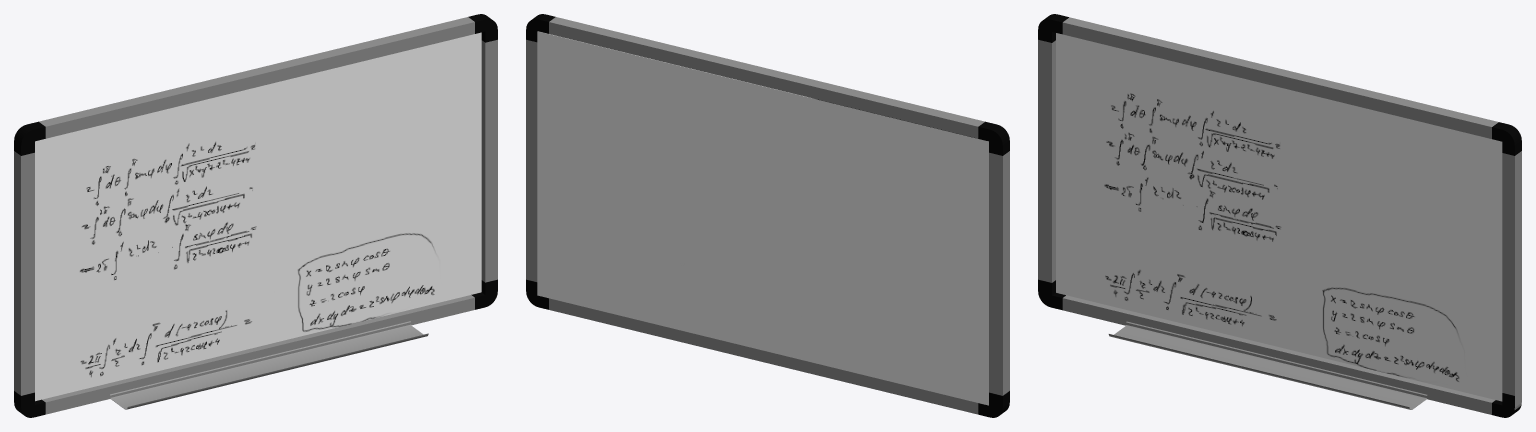
File: Whiteboard.FBX
3 views of the same model, side by side, from view 1: azimuth 30°, elevation 25°; view 2: azimuth 150°, elevation 25°; view 3: azimuth 330°, elevation 25° (orthographic).
Visible parts, largest first — view 1: Whiteboard; view 2: Whiteboard; view 3: Whiteboard.
Boxes of the visible parts, x1=… form: Whiteboard: x1=14, y1=14, x2=497, y2=417; Whiteboard: x1=526, y1=14, x2=1009, y2=417; Whiteboard: x1=1038, y1=14, x2=1521, y2=417.
Size of the model in its own units: 2683 by 247 by 1548.
2 materials, 1 textured.
